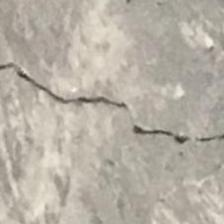Crack: (10, 57, 224, 151)
